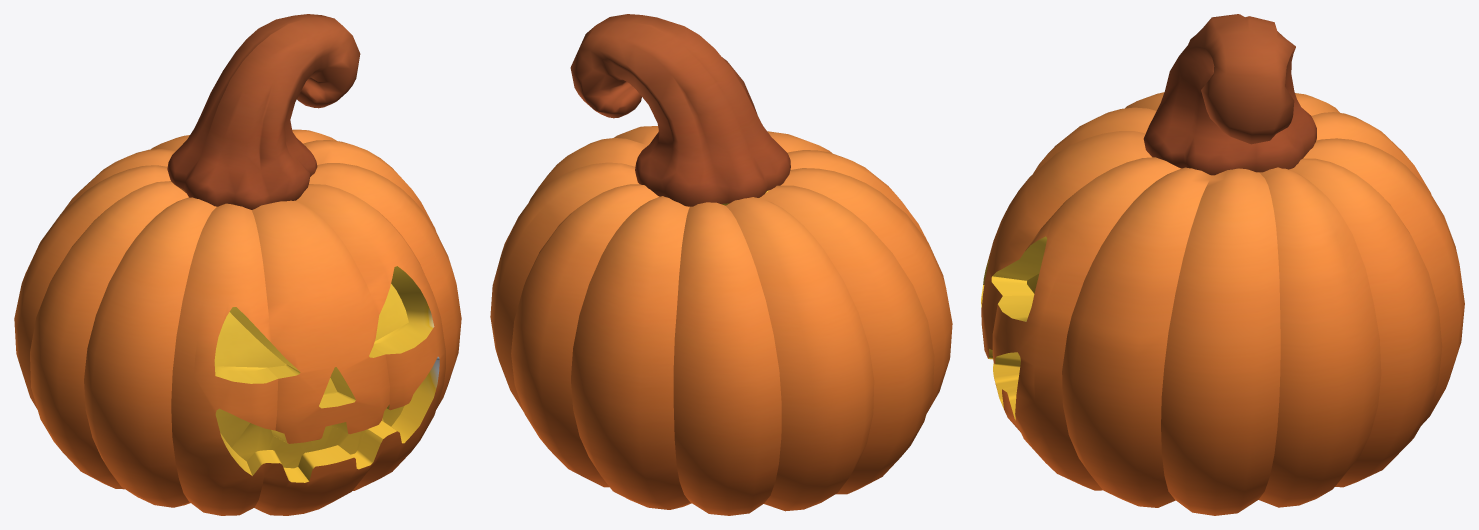
File: pumpkin.glb
3 views of the same model, side by side, from view 1: azimuth 30°, elevation 25°; view 2: azimuth 150°, elevation 25°; view 3: azimuth 270°, elevation 25° (orthographic). The views are drawn at different scales.
Parts seen in each view (by area): view 1: WBA_Pumpkin_JackOLantern_01; view 2: WBA_Pumpkin_JackOLantern_01; view 3: WBA_Pumpkin_JackOLantern_01.
Part boxes in pixels (x1,y1,x2,y2): WBA_Pumpkin_JackOLantern_01: (14, 14, 461, 515); WBA_Pumpkin_JackOLantern_01: (490, 14, 952, 515); WBA_Pumpkin_JackOLantern_01: (981, 14, 1464, 515).
Bounding box in the file's own units: 0.3888 × 0.398 × 0.3677.
1 material, 1 textured.
